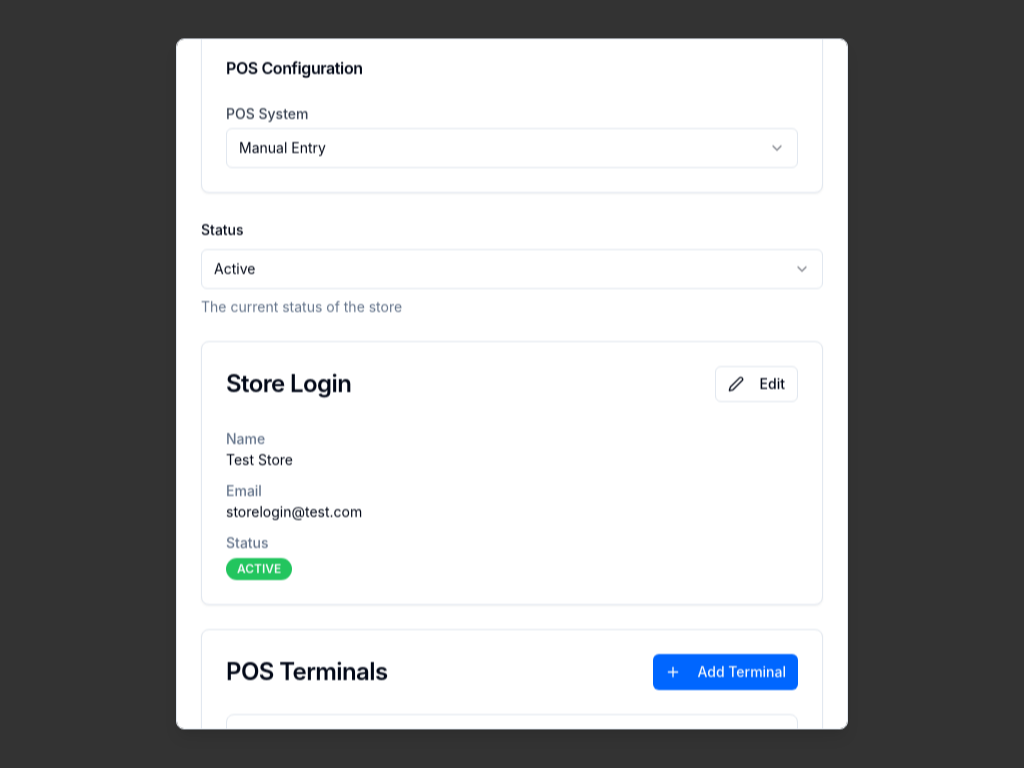
Test: 2.5-COMPONENT: EditStoreModal Component › Store Login Section › [P0] 2.5-COMPONENT-029: should open edit form when Edit button is clicked
(page scrolled)
# User clicks Edit button in login section
What coordinates should you click on to do the following:
click the button with test id "edit-login-button"
I would click on:
 (756, 384)
Its box is top-left (715, 366), bottom-right (798, 402).
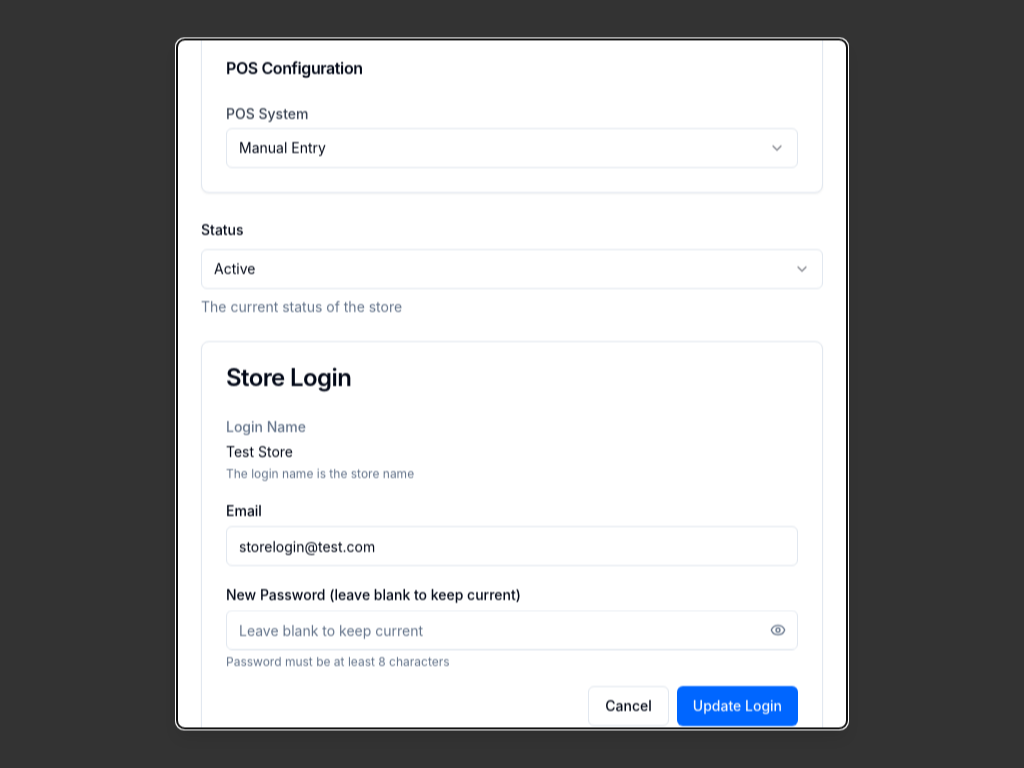
Now the field with test id "login-email-input" is shown, box top-left (226, 526), bottom-right (798, 566)
Now the password field with test id "login-password-input" is shown, box top-left (226, 610), bottom-right (798, 650)
